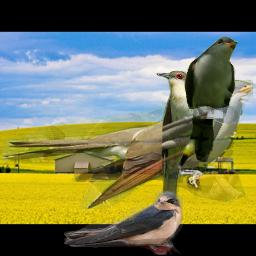Cuckoo: (2, 80, 253, 209), (156, 70, 210, 229), (184, 36, 238, 162)
Swallow: (64, 190, 183, 255)
